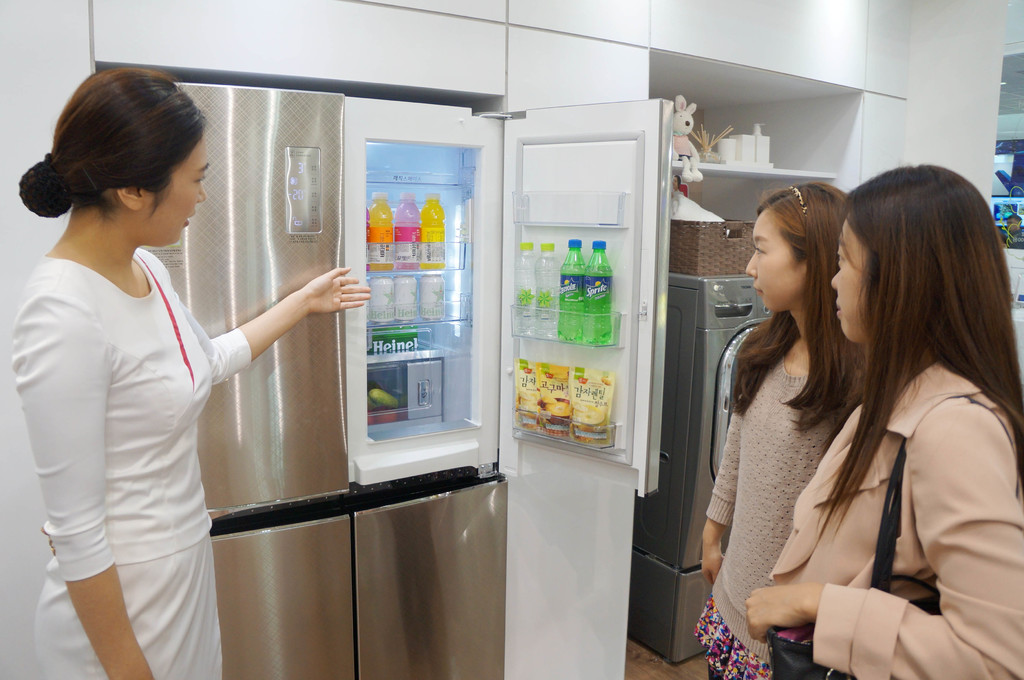handle: (350, 470, 477, 517), (214, 494, 350, 530)
refrigerator door: (190, 92, 343, 498), (506, 123, 662, 468), (358, 502, 502, 677), (215, 515, 345, 680)
